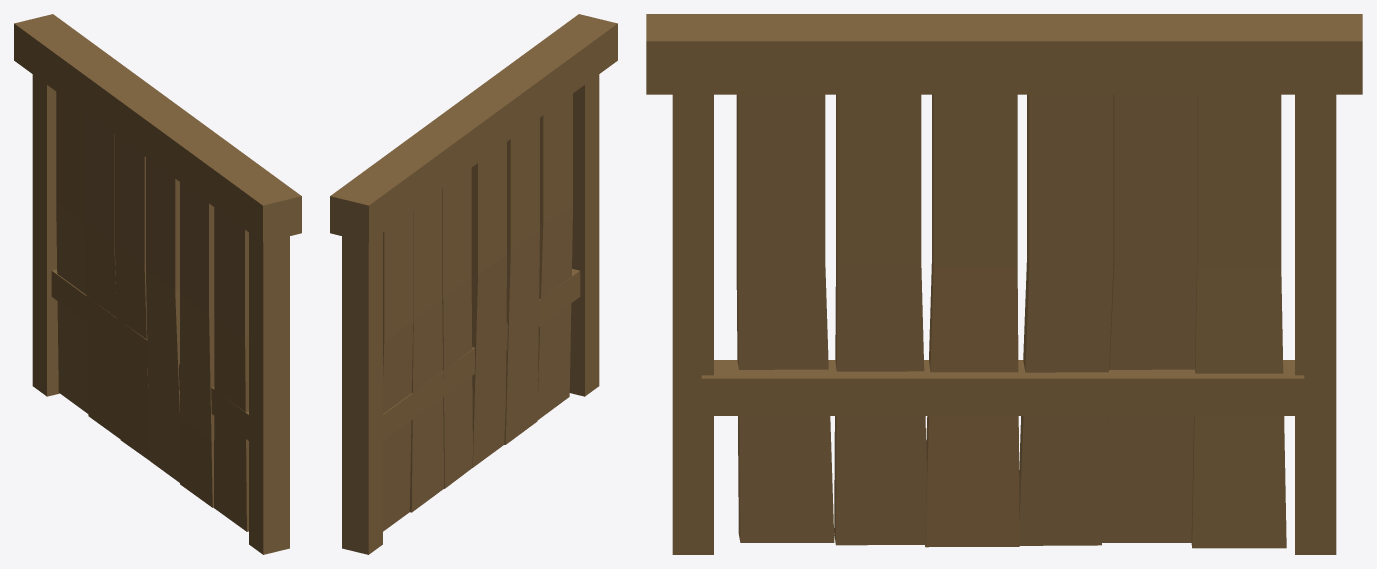
Rendered from woodenhut_wallback.glb.
3 renders of one model, left to right at view 1: azimuth 30°, elevation 25°; view 2: azimuth 150°, elevation 25°; view 3: azimuth 270°, elevation 25°, orthographic. The views are drawn at different scales.
Visible parts, largest first — view 1: Houses_FirstAge_3_Level3; view 2: Houses_FirstAge_3_Level3; view 3: Houses_FirstAge_3_Level3.
Boxes of the visible parts, x1=… form: Houses_FirstAge_3_Level3: x1=14, y1=14, x2=301, y2=554; Houses_FirstAge_3_Level3: x1=330, y1=14, x2=617, y2=554; Houses_FirstAge_3_Level3: x1=646, y1=14, x2=1362, y2=554.
Bounding box in the file's own units: 0.2945 × 2.47 × 3.11.
